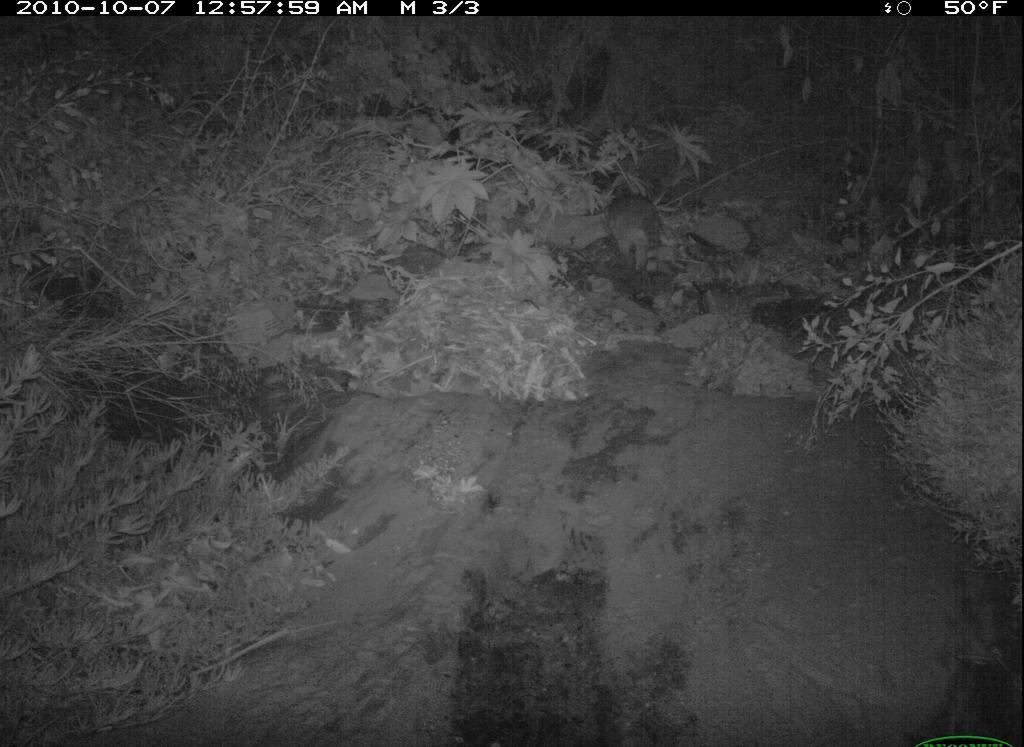raccoon: (599, 188, 674, 281)
